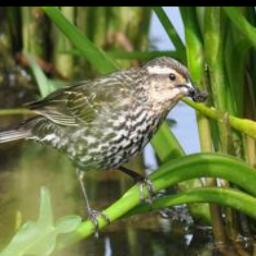Sparrow: (0, 56, 204, 234)
